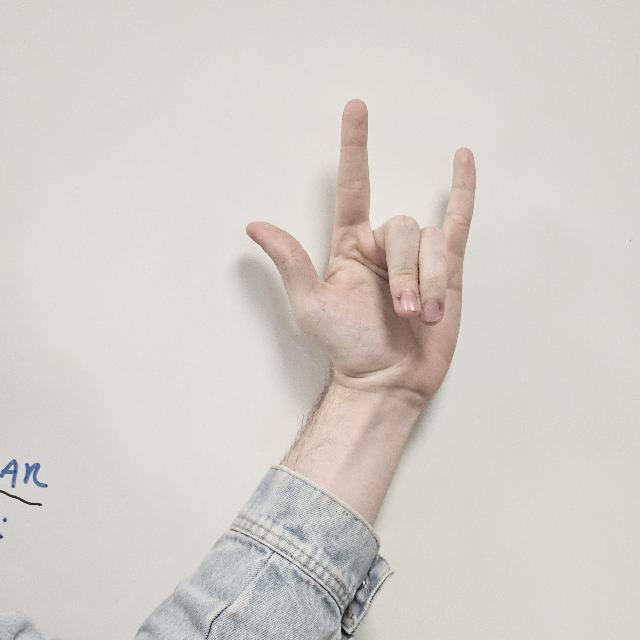Cima: (249, 92, 476, 428)
